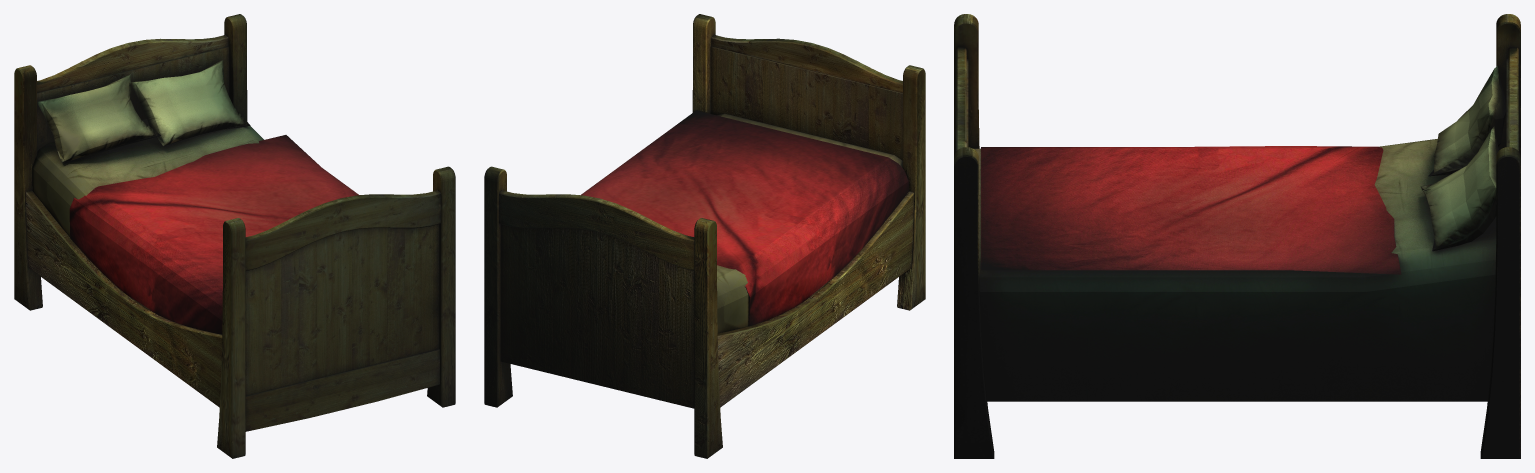
File: bed.glb
3 views of the same model, side by side, from view 1: azimuth 30°, elevation 25°; view 2: azimuth 150°, elevation 25°; view 3: azimuth 270°, elevation 25° (orthographic). The views are drawn at different scales.
Bounding box in the file's own units: 1.27 × 1.25 × 2.12.
Materials: 2 (2 with a texture image).
